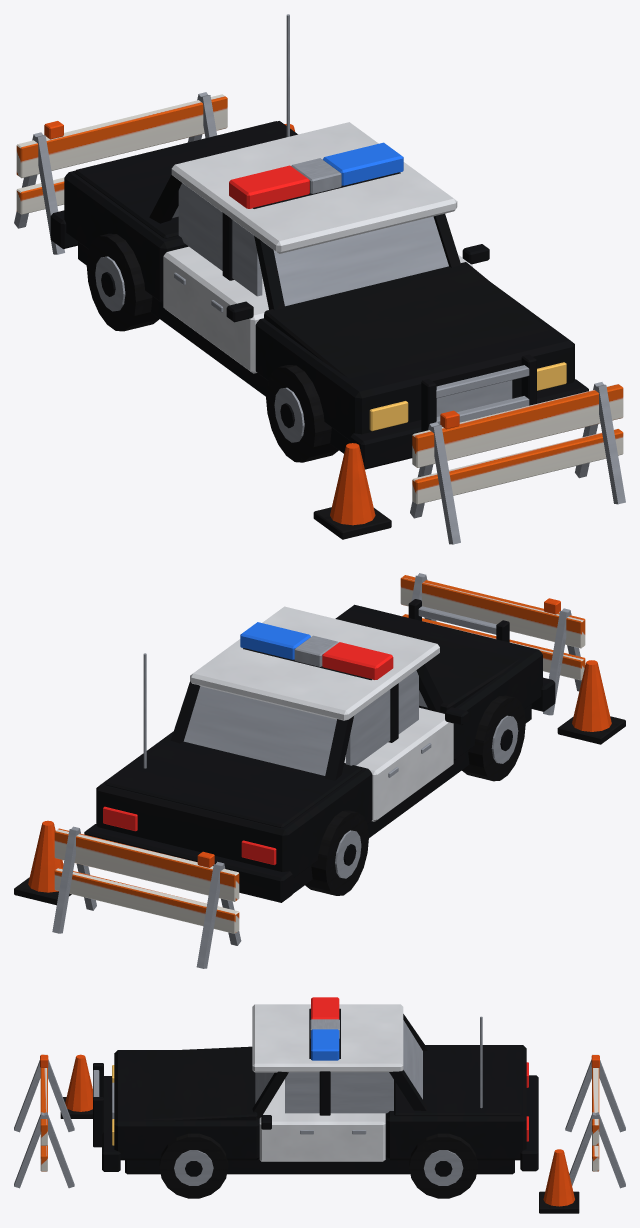
The model's file is Landmark_PoliceRoadblock.fbx.
The picture shows the model from 3 angles, top to bottom: view 1: azimuth 30°, elevation 25°; view 2: azimuth 150°, elevation 25°; view 3: azimuth 270°, elevation 25°; orthographic projection. The views are drawn at different scales.
Parts seen in each view (by area): view 1: Landmark_PoliceRoadblock_CruiserBody, Landmark_PoliceRoadblock_Barricades, Landmark_PoliceRoadblock_CruiserGlass, Landmark_PoliceRoadblock_StrobeRed, Landmark_PoliceRoadblock_StrobeBlue; view 2: Landmark_PoliceRoadblock_CruiserBody, Landmark_PoliceRoadblock_Barricades, Landmark_PoliceRoadblock_CruiserGlass, Landmark_PoliceRoadblock_StrobeRed, Landmark_PoliceRoadblock_StrobeBlue; view 3: Landmark_PoliceRoadblock_CruiserBody, Landmark_PoliceRoadblock_Barricades, Landmark_PoliceRoadblock_CruiserGlass, Landmark_PoliceRoadblock_StrobeBlue, Landmark_PoliceRoadblock_StrobeRed.
Part boxes in pixels (left/top/right/bottom): Landmark_PoliceRoadblock_CruiserBody: left=50, top=14, right=588, bottom=469; Landmark_PoliceRoadblock_Barricades: left=14, top=92, right=625, bottom=544; Landmark_PoliceRoadblock_CruiserGlass: left=172, top=183, right=448, bottom=306; Landmark_PoliceRoadblock_StrobeRed: left=229, top=165, right=309, bottom=208; Landmark_PoliceRoadblock_StrobeBlue: left=322, top=142, right=403, bottom=185; Landmark_PoliceRoadblock_CruiserBody: left=84, top=599, right=555, bottom=902; Landmark_PoliceRoadblock_Barricades: left=14, top=573, right=625, bottom=968; Landmark_PoliceRoadblock_CruiserGlass: left=183, top=670, right=427, bottom=775; Landmark_PoliceRoadblock_StrobeRed: left=322, top=642, right=393, bottom=679; Landmark_PoliceRoadblock_StrobeBlue: left=240, top=622, right=310, bottom=659; Landmark_PoliceRoadblock_CruiserBody: left=93, top=1004, right=538, bottom=1198; Landmark_PoliceRoadblock_Barricades: left=14, top=1054, right=625, bottom=1213; Landmark_PoliceRoadblock_CruiserGlass: left=255, top=1020, right=422, bottom=1113; Landmark_PoliceRoadblock_StrobeBlue: left=311, top=1029, right=339, bottom=1060; Landmark_PoliceRoadblock_StrobeRed: left=311, top=997, right=339, bottom=1019.
Size of the model in its own units: 10.15 by 7.24 by 23.53.
1 material, 1 textured.
